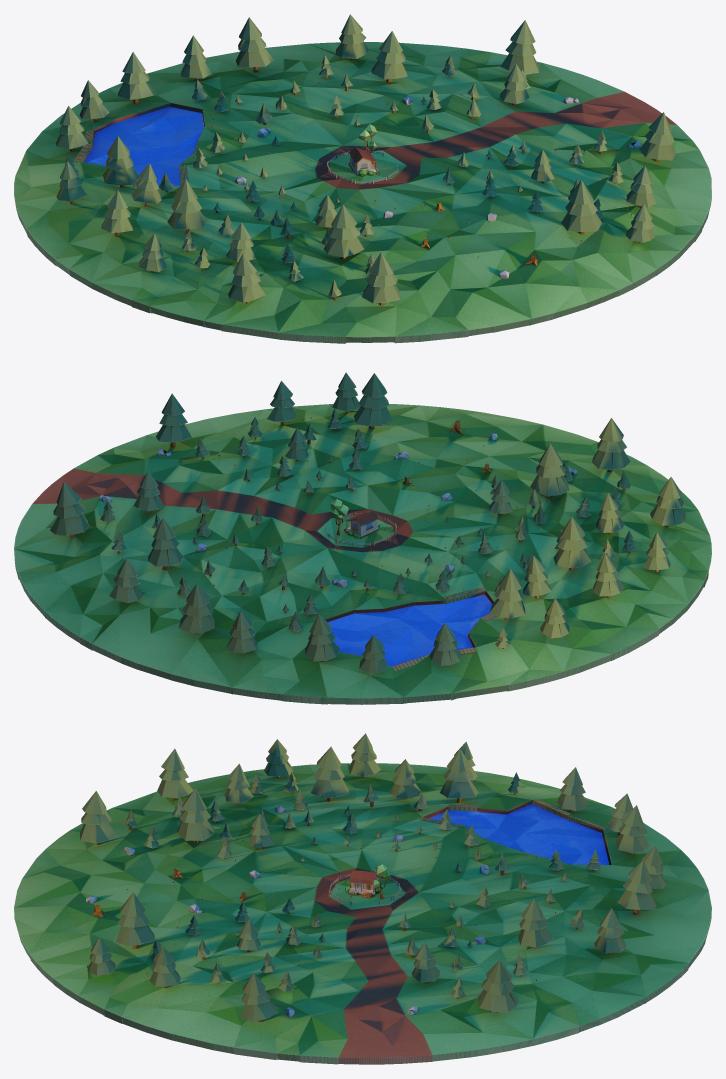
Rendered from billys_house2.glb.
3 views of the same model, one above another, from view 1: azimuth 30°, elevation 25°; view 2: azimuth 150°, elevation 25°; view 3: azimuth 270°, elevation 25° (orthographic).
Visible parts, largest first — view 1: Floor_26, Object_58, big.tree.030_24, big.tree.022_21, big.tree.031_25, big.tree.001_1, big.tree.009_9, big.tree.021_20, big.tree.015_15, big.tree.007_7, big.tree.020_19, big.tree.011_11 (+13 smaller); view 2: Floor_26, Object_58, big.tree.009_9, big.tree.030_24, big.tree.022_21, big.tree.031_25, big.tree.001_1, big.tree.021_20, big.tree.015_15, big.tree.020_19, big.tree.011_11, big.tree.007_7 (+14 smaller); view 3: Floor_26, Object_58, big.tree.009_9, big.tree.030_24, big.tree.022_21, big.tree.001_1, big.tree.031_25, big.tree.021_20, big.tree.015_15, big.tree.007_7, big.tree.011_11, big.tree.020_19 (+14 smaller).
Boxes of the visible parts, bbox=[...] form: Floor_26: bbox=[14, 42, 711, 343]; Object_58: bbox=[229, 96, 641, 246]; big.tree.030_24: bbox=[561, 180, 601, 234]; big.tree.022_21: bbox=[323, 204, 363, 259]; big.tree.031_25: bbox=[362, 252, 400, 305]; big.tree.001_1: bbox=[167, 179, 206, 233]; big.tree.009_9: bbox=[500, 20, 539, 74]; big.tree.021_20: bbox=[235, 17, 273, 72]; big.tree.015_15: bbox=[103, 136, 139, 187]; big.tree.007_7: bbox=[639, 112, 675, 161]; big.tree.020_19: bbox=[228, 253, 265, 303]; big.tree.011_11: bbox=[371, 31, 407, 82]; Floor_26: bbox=[14, 404, 711, 704]; Object_58: bbox=[99, 449, 454, 587]; big.tree.009_9: bbox=[50, 482, 88, 537]; big.tree.030_24: bbox=[353, 373, 392, 428]; big.tree.022_21: bbox=[530, 443, 569, 498]; big.tree.031_25: bbox=[592, 418, 630, 471]; big.tree.001_1: bbox=[553, 517, 591, 570]; big.tree.021_20: bbox=[179, 584, 214, 633]; big.tree.015_15: bbox=[489, 568, 525, 619]; big.tree.020_19: bbox=[650, 477, 686, 525]; big.tree.011_11: bbox=[148, 517, 183, 570]; big.tree.007_7: bbox=[156, 393, 191, 447]; Floor_26: bbox=[14, 763, 711, 1064]; Object_58: bbox=[274, 805, 489, 1017]; big.tree.009_9: bbox=[477, 960, 517, 1012]; big.tree.030_24: bbox=[115, 892, 155, 948]; big.tree.022_21: bbox=[177, 788, 214, 842]; big.tree.001_1: bbox=[310, 746, 348, 801]; big.tree.031_25: bbox=[80, 791, 117, 845]; big.tree.021_20: bbox=[617, 860, 656, 914]; big.tree.015_15: bbox=[440, 749, 478, 802]; big.tree.007_7: bbox=[241, 973, 277, 1021]; big.tree.011_11: bbox=[518, 898, 553, 948]; big.tree.020_19: bbox=[157, 748, 193, 800].
Bounding box in the file's own units: 5.87 × 0.7349 × 5.87.
Materials: 3 (3 with a texture image).
